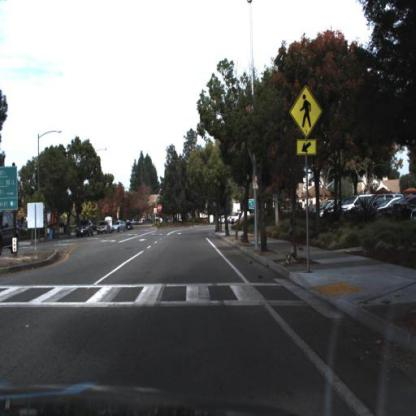car: (0, 209, 20, 253), (337, 188, 363, 218), (72, 214, 95, 242), (94, 214, 112, 240), (108, 216, 129, 236), (92, 217, 112, 236)
